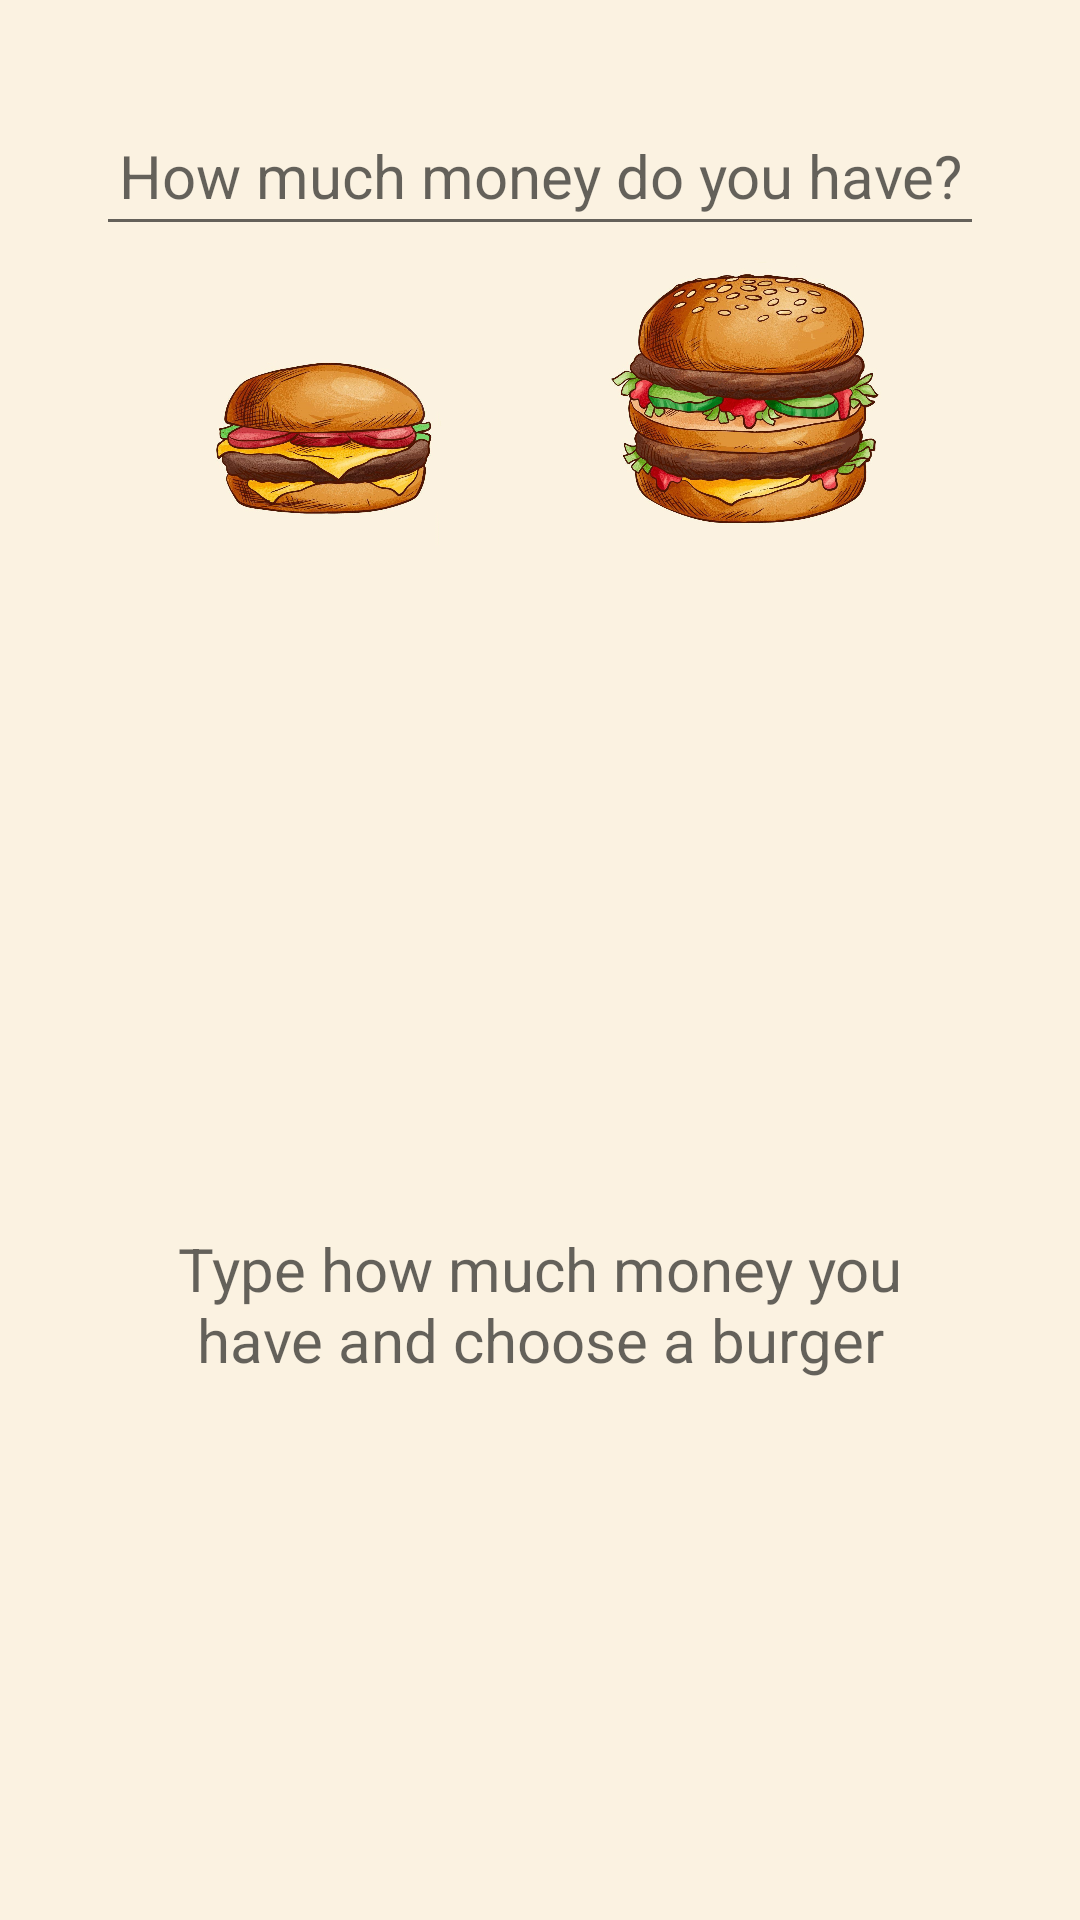

Icon bounding boxes for this 1080*1920 phone screenshot, format (x1, y1, x2, y2):
cheese: (216, 363, 431, 514)
doublecheese: (611, 274, 879, 523)
